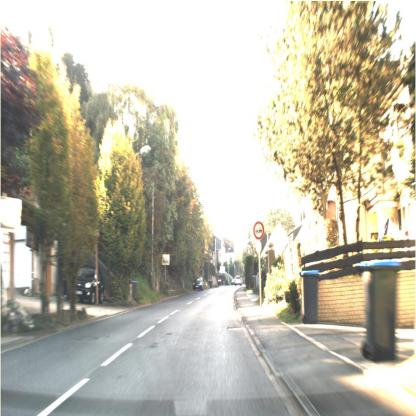prohibitory: (252, 220, 266, 240)
